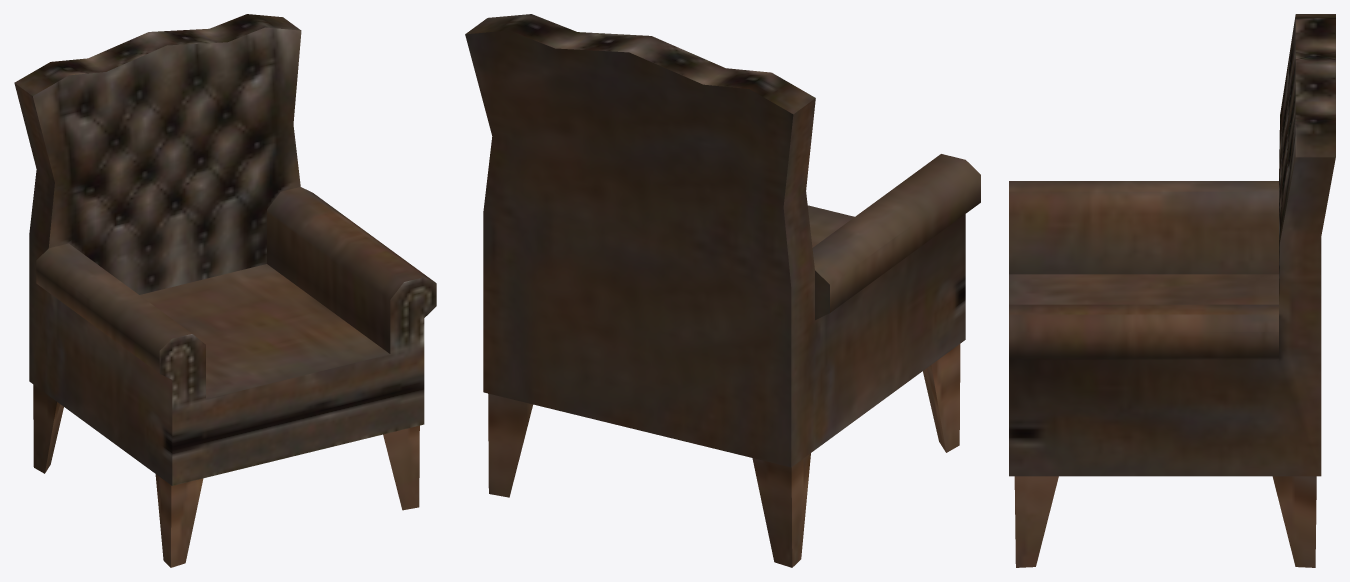
The model's file is Armchair-col.glb.
The picture shows the model from 3 angles, left to right: view 1: azimuth 30°, elevation 25°; view 2: azimuth 150°, elevation 25°; view 3: azimuth 270°, elevation 25°; orthographic projection. The views are drawn at different scales.
Visible parts, largest first — view 1: Armchair-col; view 2: Armchair-col; view 3: Armchair-col.
Part boxes in pixels (x1,y1,x2,y2): Armchair-col: (14,14,436,567); Armchair-col: (465,14,980,567); Armchair-col: (1009,14,1335,567).
Bounding box in the file's own units: 0.9048 × 1.24 × 0.846.
Materials: 1 (1 with a texture image).
